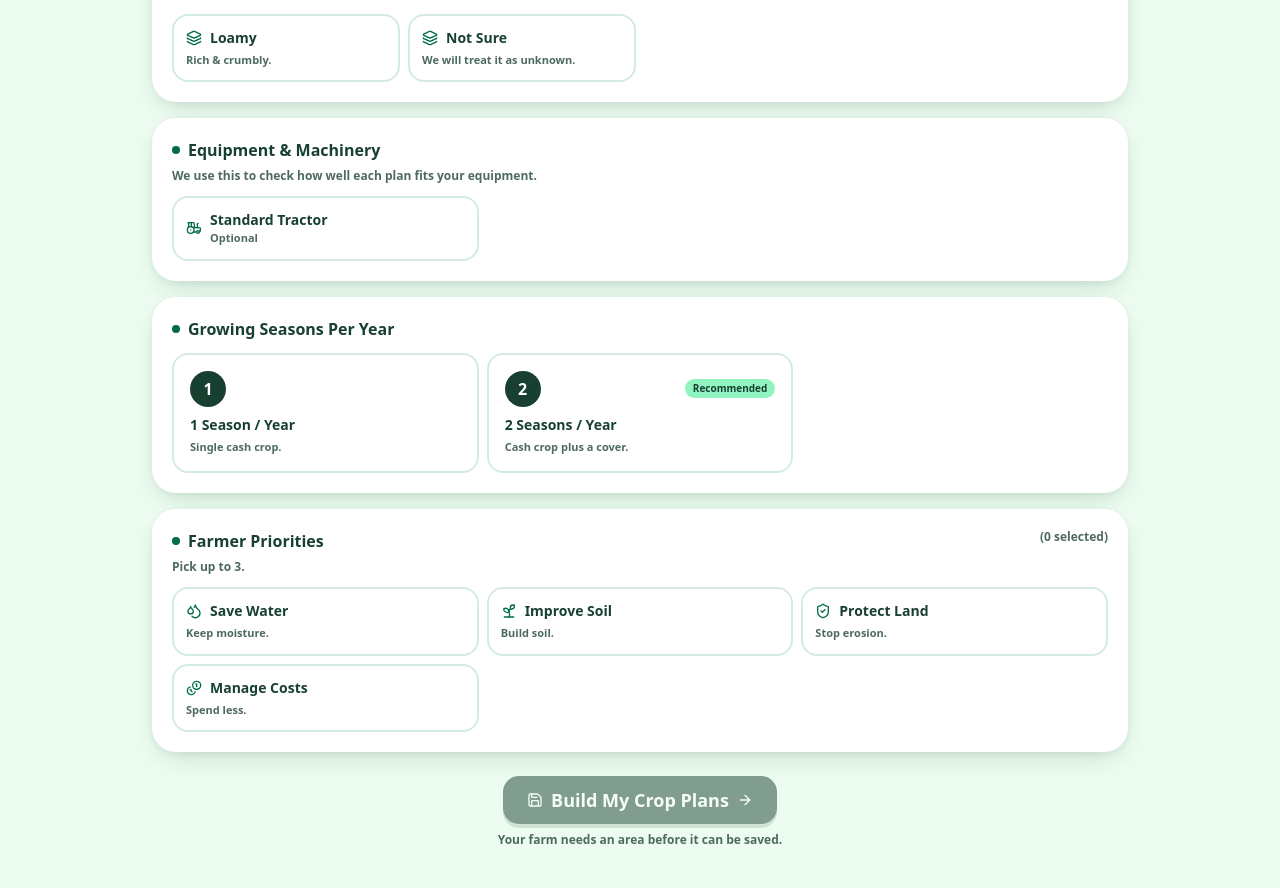
my farm › keeps the save button disabled when the 4th priority would be added
(page scrolled)
Click the button "Save Water Keep moisture." at (249, 610), box [172,587,479,656]
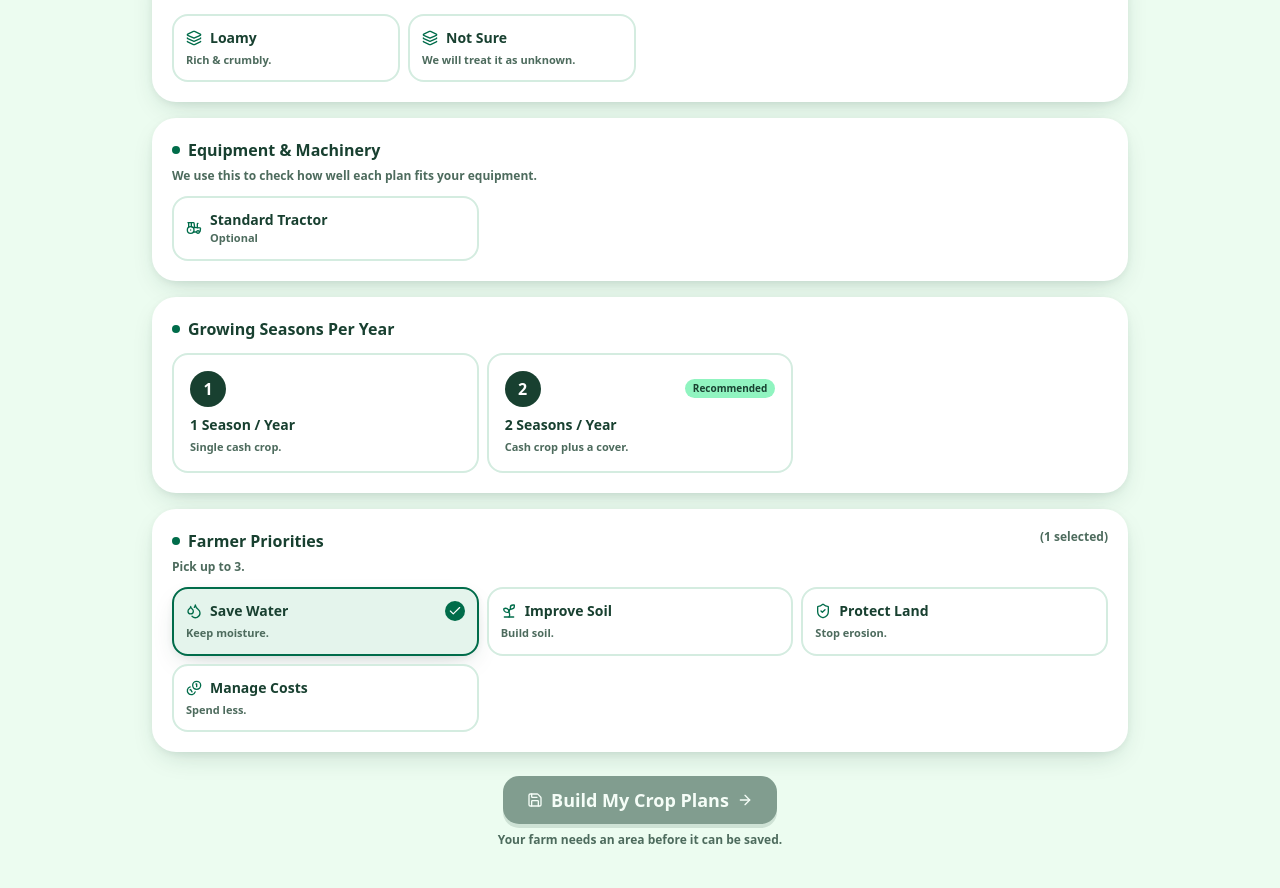
Click the button "Improve Soil Build soil." at (568, 610), box [487,587,793,656]
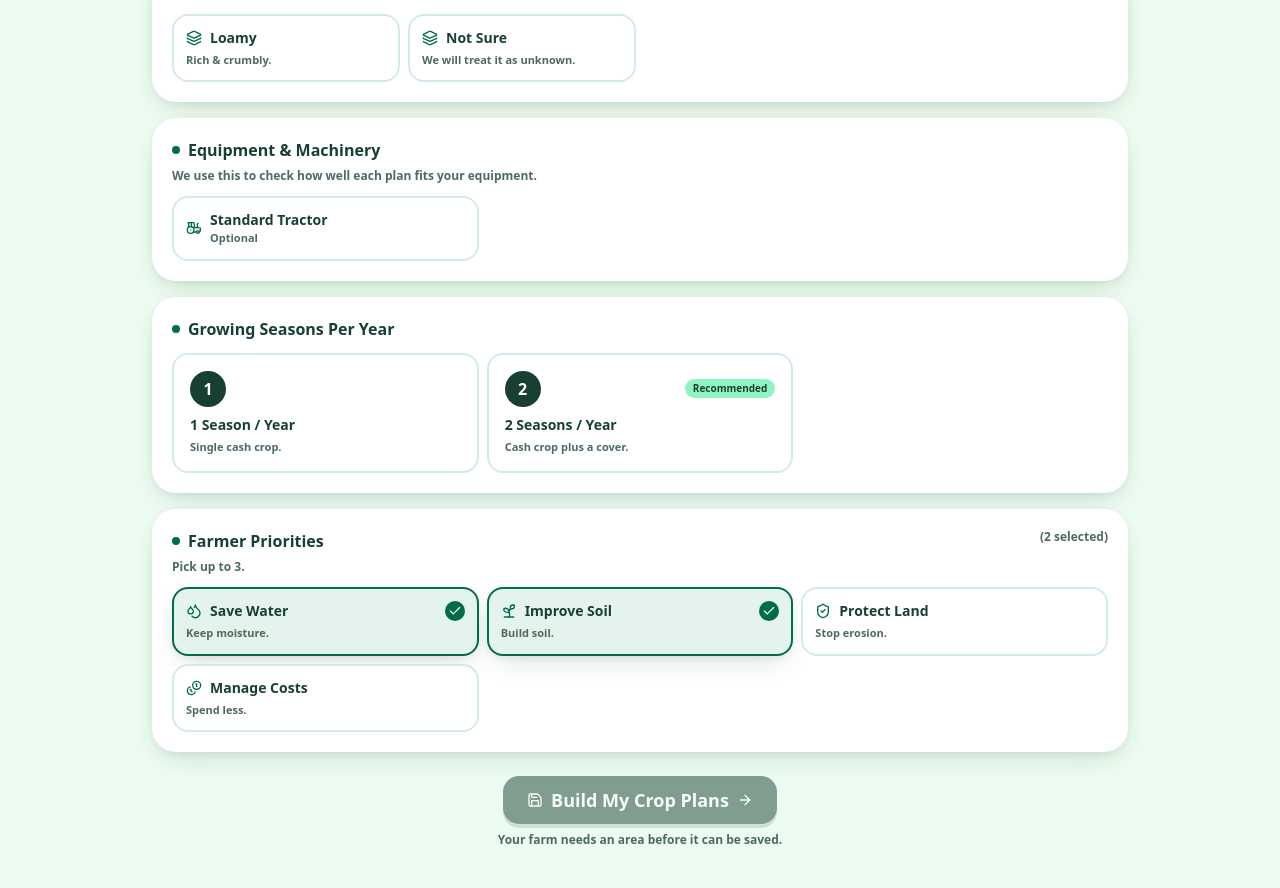
Click the button "Protect Land Stop erosion." at (884, 610), box [801,587,1108,656]
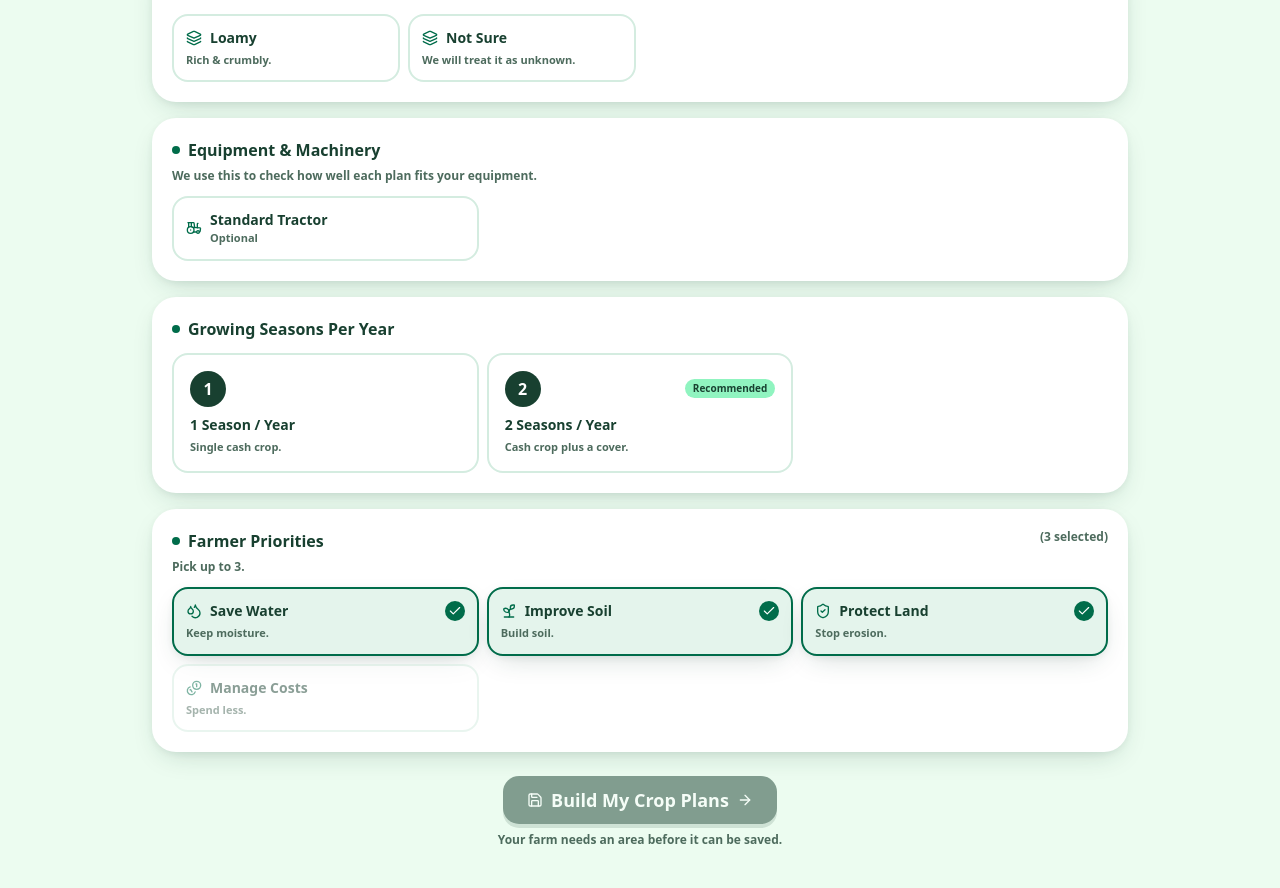
Expected: the button "Manage Costs Spend less." is disabled, [172,664,479,732]
